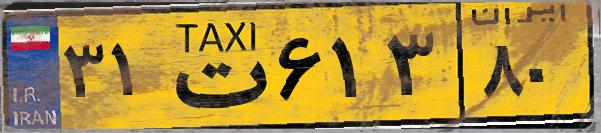0: (525, 38, 570, 115)
1: (330, 28, 385, 110), (110, 28, 158, 98)
3: (385, 28, 445, 110), (57, 26, 110, 100)
6: (270, 28, 330, 110)
8: (475, 38, 525, 113)
ت: (158, 12, 270, 120)
